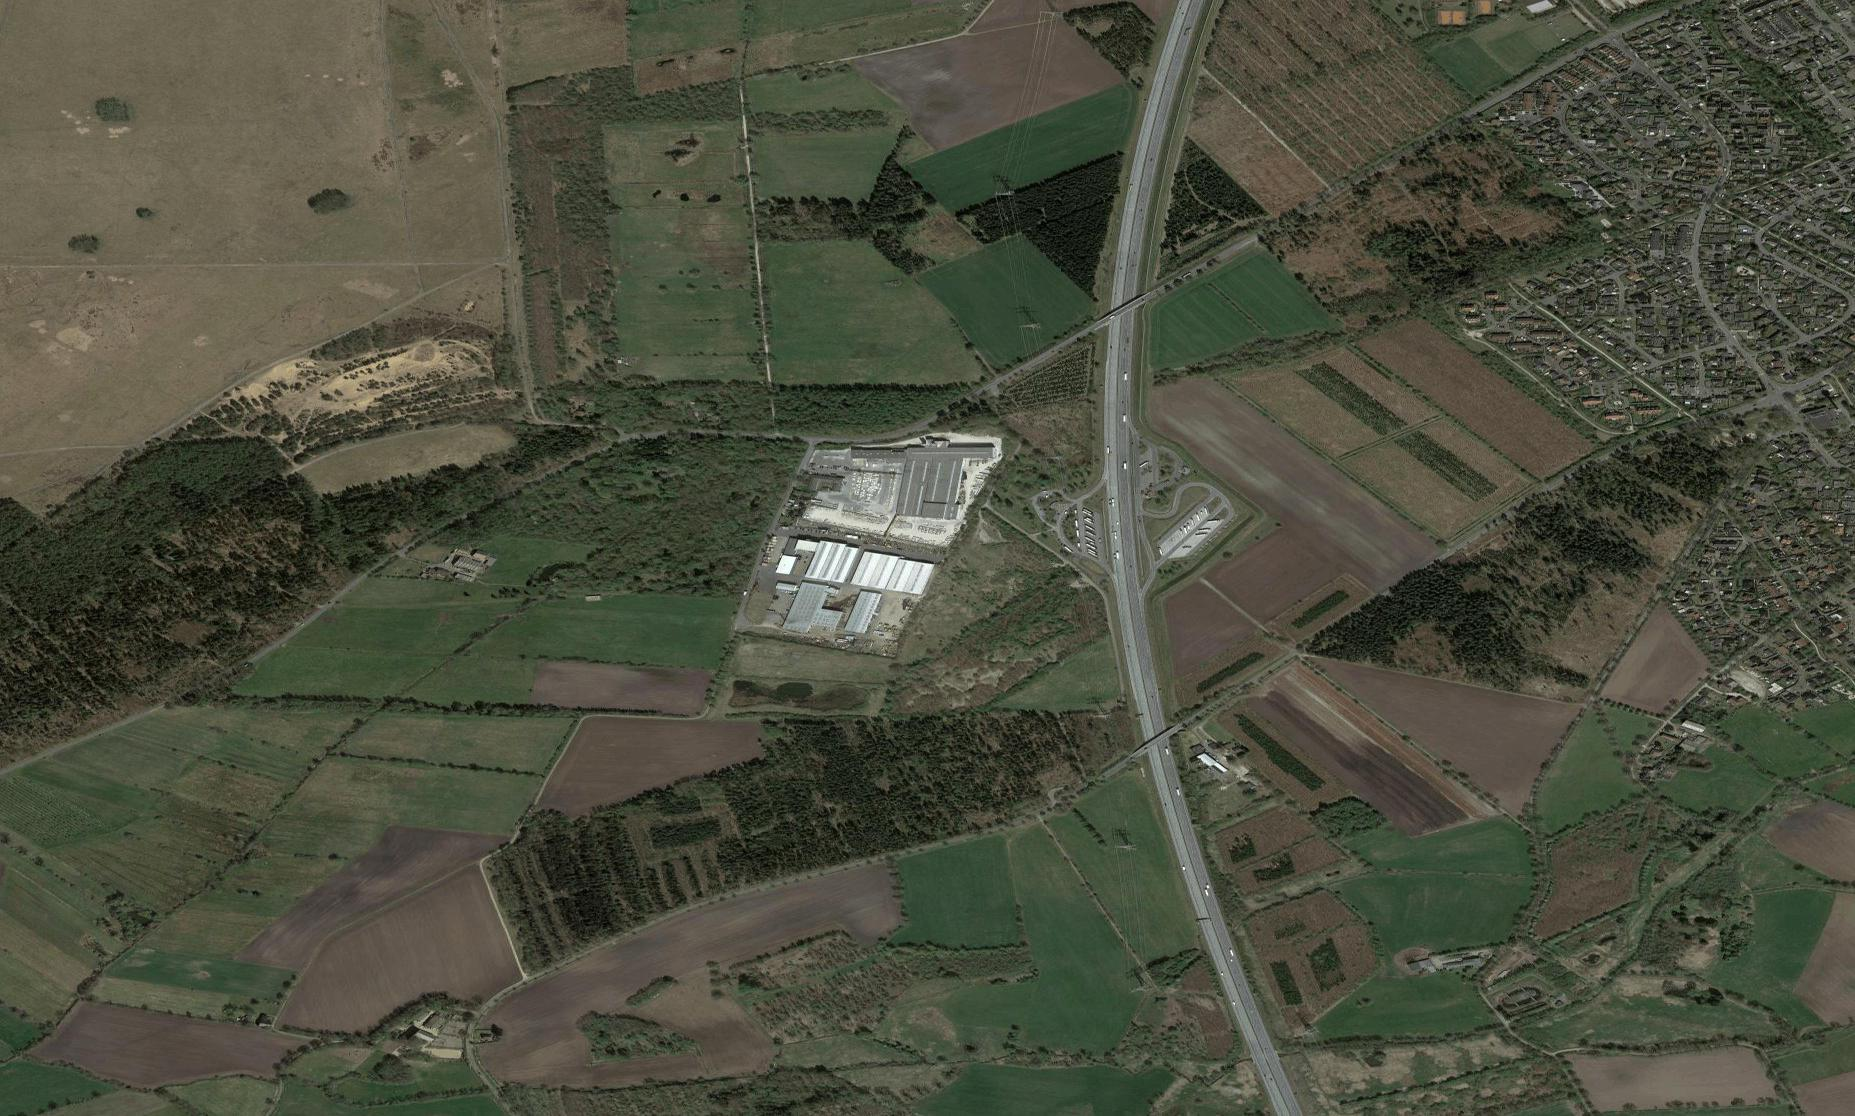industrial: (743, 412, 999, 663)
motorway: (1187, 891, 1301, 1116), (1120, 684, 1210, 895), (1086, 457, 1163, 687), (1090, 228, 1166, 456), (1121, 1, 1196, 228)
